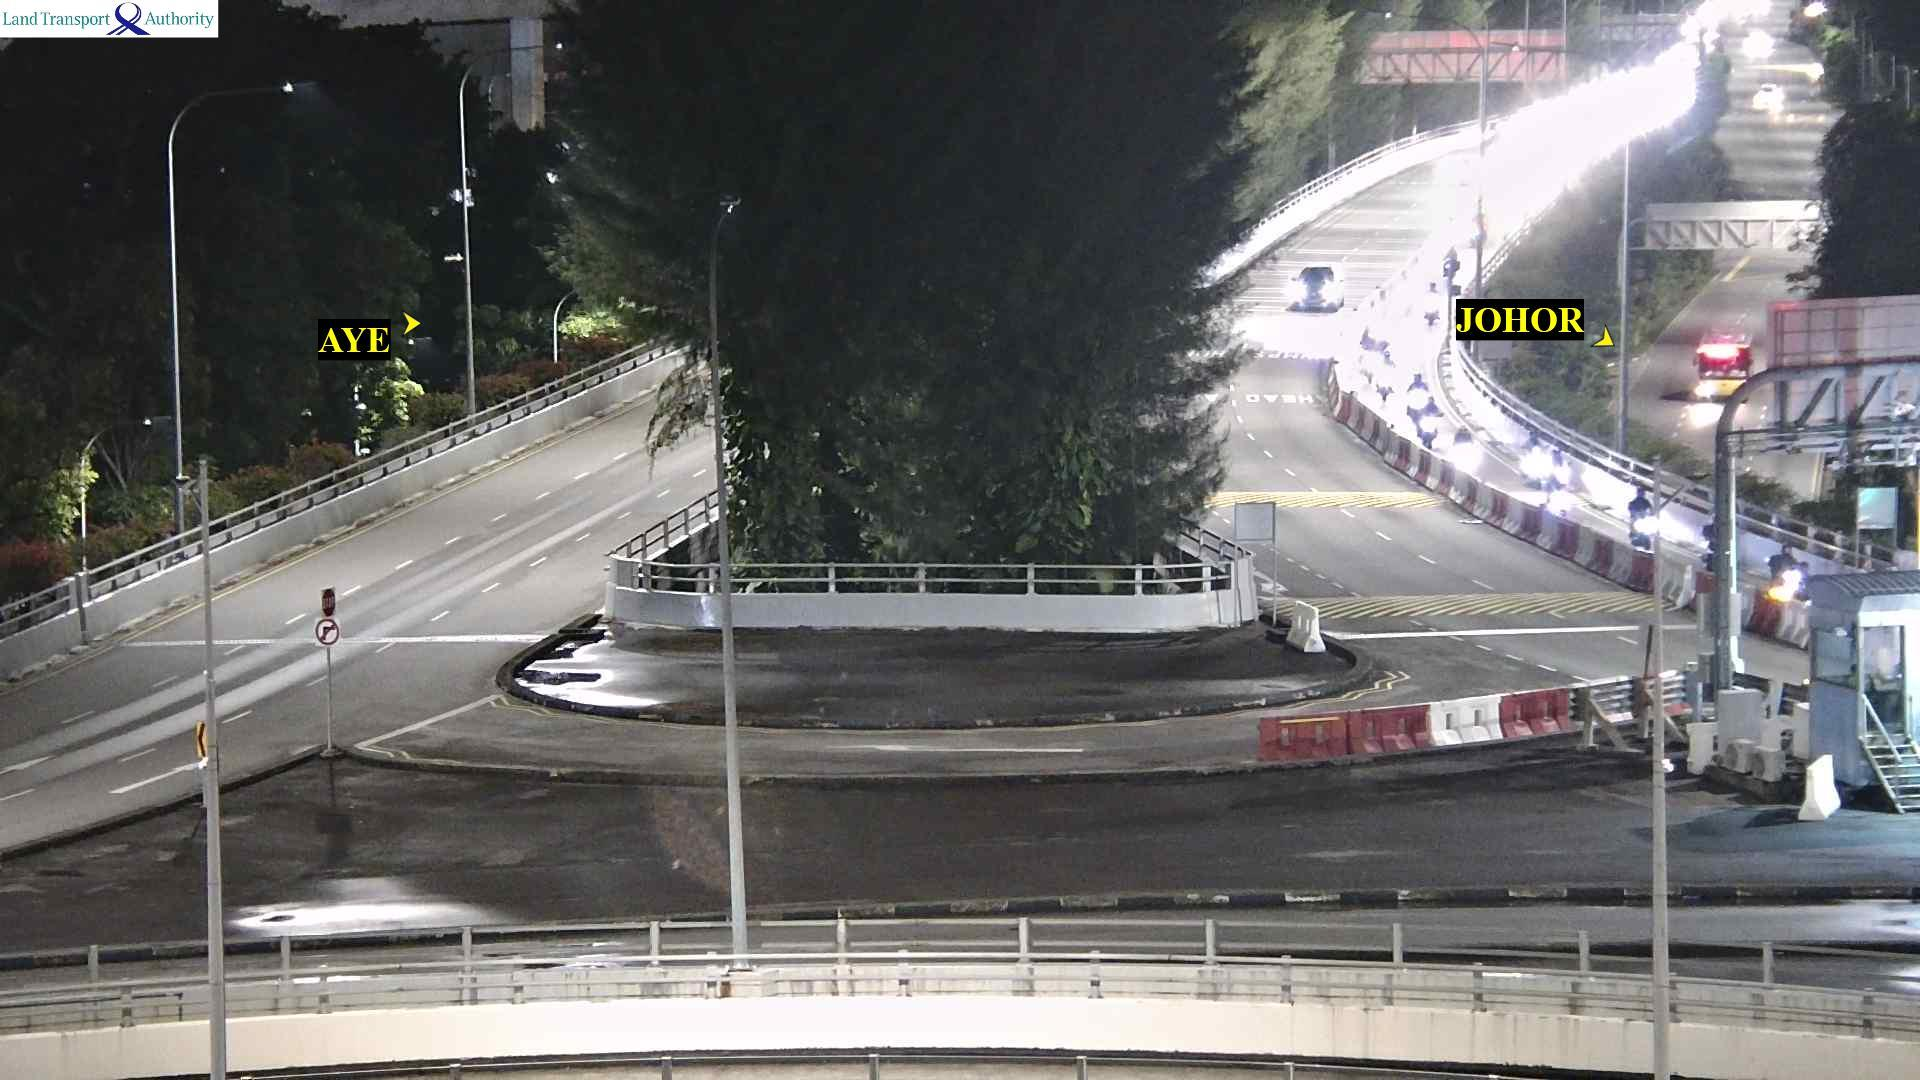vehicle-secondlink-johor: (1296, 267, 1352, 315), (1630, 489, 1652, 548), (1417, 396, 1439, 449), (1520, 432, 1543, 478), (1774, 544, 1796, 589), (1374, 353, 1393, 401), (1410, 372, 1424, 428), (1454, 426, 1471, 472), (1425, 284, 1440, 326), (1443, 244, 1460, 279)
